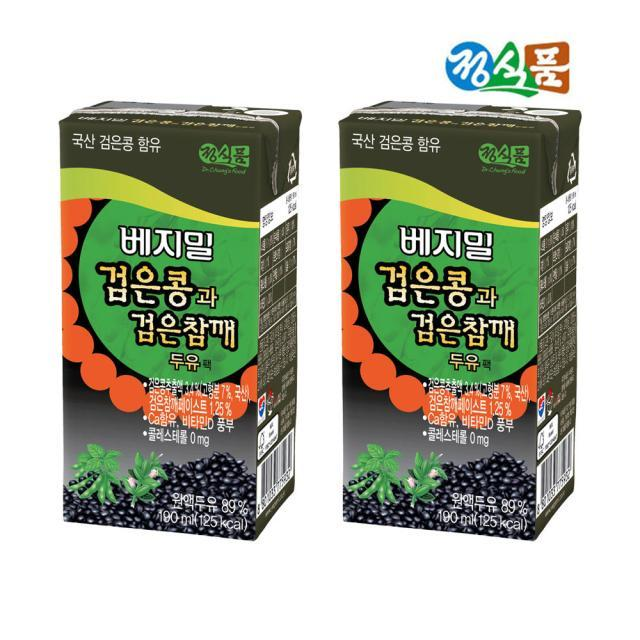Tetra: (48, 83, 308, 552), (328, 99, 585, 552)
